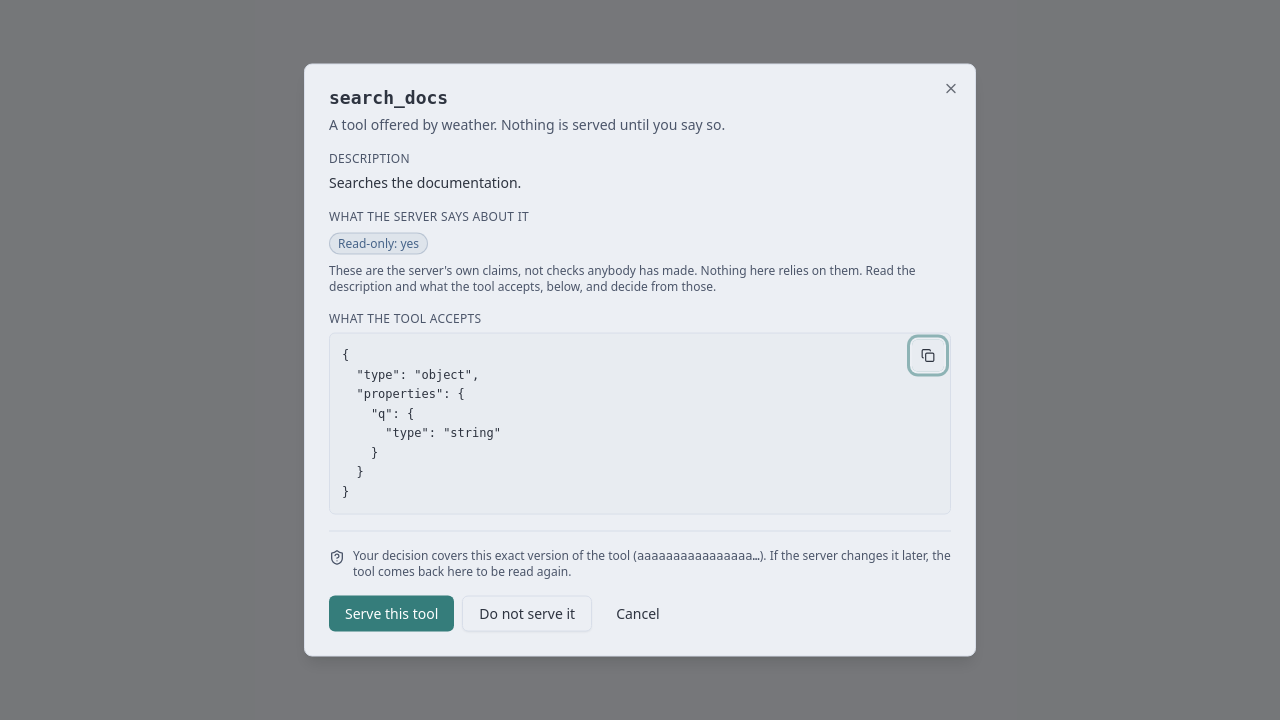
Scenario: when the descriptor changed underneath › says the tool changed, and does not record the decision
The width and height of the screenshot is (1280, 720).
Click the button "Serve this tool".
click(392, 614)  # box left=329, top=596, right=454, bottom=632
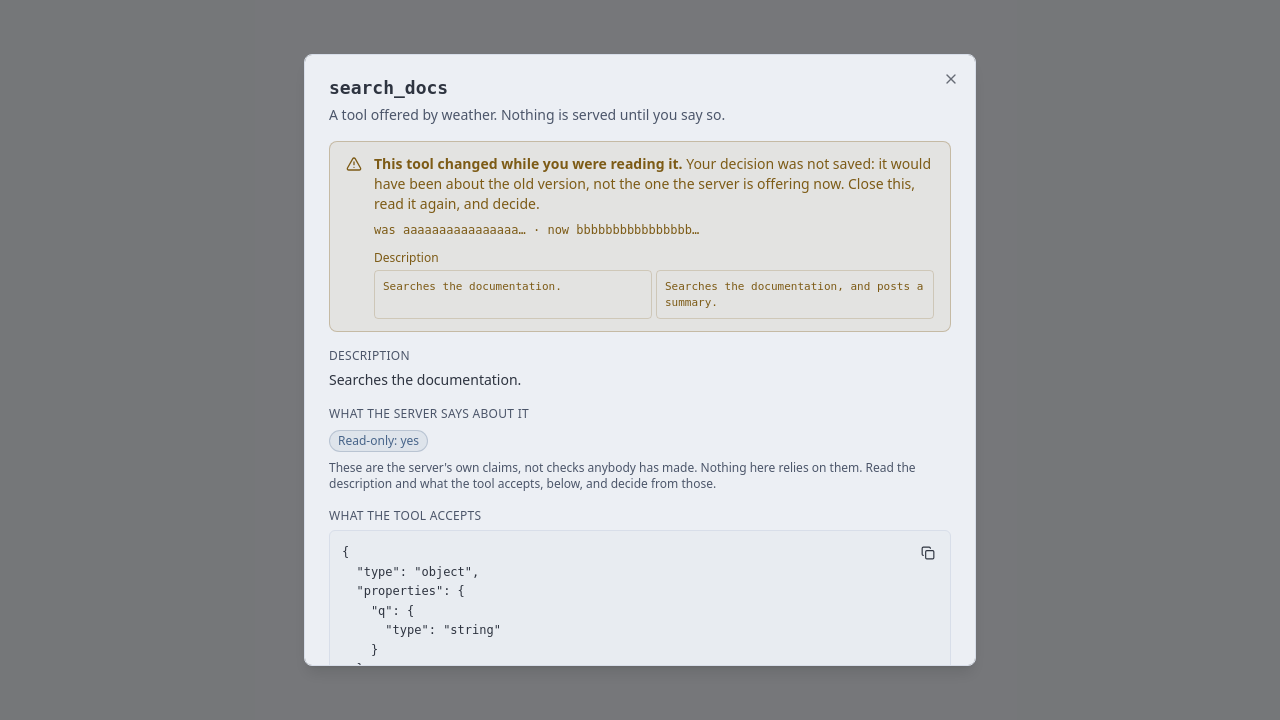
expect the text "This tool changed while you were reading it." is shown: met, box left=374, top=154, right=682, bottom=173
